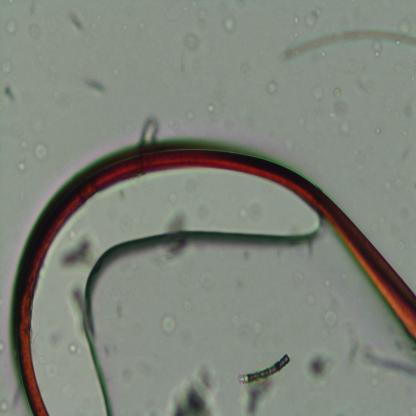Air bubble: (31, 168, 317, 414)
Background material: (279, 23, 416, 58), (170, 358, 218, 416), (160, 204, 188, 266), (362, 350, 416, 382), (237, 352, 289, 385), (58, 233, 97, 270), (66, 278, 86, 343), (304, 347, 335, 385), (242, 379, 272, 414), (232, 194, 264, 226), (332, 88, 352, 136), (351, 61, 377, 94), (344, 314, 360, 366), (294, 1, 324, 28), (193, 268, 217, 293), (142, 116, 159, 147), (42, 360, 63, 382), (319, 304, 340, 326), (117, 364, 140, 383), (85, 76, 106, 96), (32, 140, 51, 162), (68, 11, 84, 37), (200, 98, 220, 118), (186, 28, 203, 51), (196, 6, 216, 25), (48, 332, 62, 357), (160, 314, 178, 332), (310, 81, 323, 105), (4, 85, 17, 108), (369, 37, 382, 59), (223, 16, 239, 33), (16, 156, 32, 173), (30, 19, 41, 43), (4, 18, 19, 34), (1, 60, 15, 76), (266, 80, 278, 95)
Microfibre: (13, 139, 416, 415)
